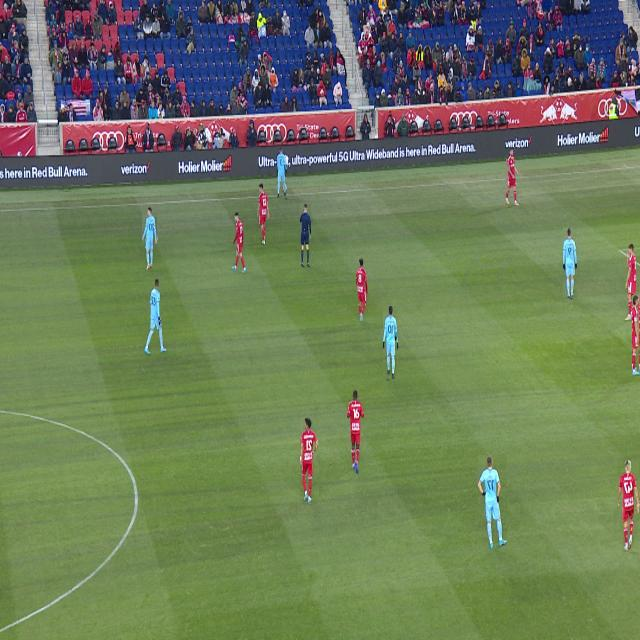player: (478, 456, 507, 549), (618, 460, 640, 552), (144, 279, 167, 354), (300, 418, 319, 503), (347, 390, 364, 474), (563, 228, 577, 298), (384, 306, 397, 379), (625, 244, 637, 320), (143, 207, 157, 270), (232, 213, 246, 273), (356, 258, 368, 321), (506, 148, 519, 206), (257, 184, 269, 245), (632, 295, 640, 375), (277, 147, 287, 198)
referee: (300, 204, 311, 266)
